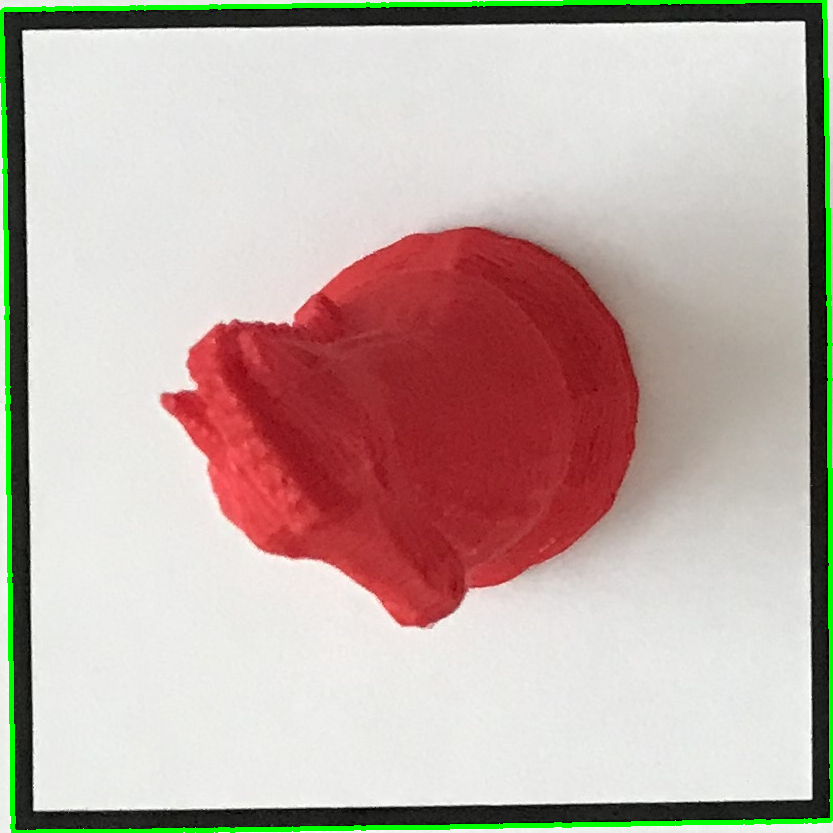Red Knight: (144, 214, 662, 633)
